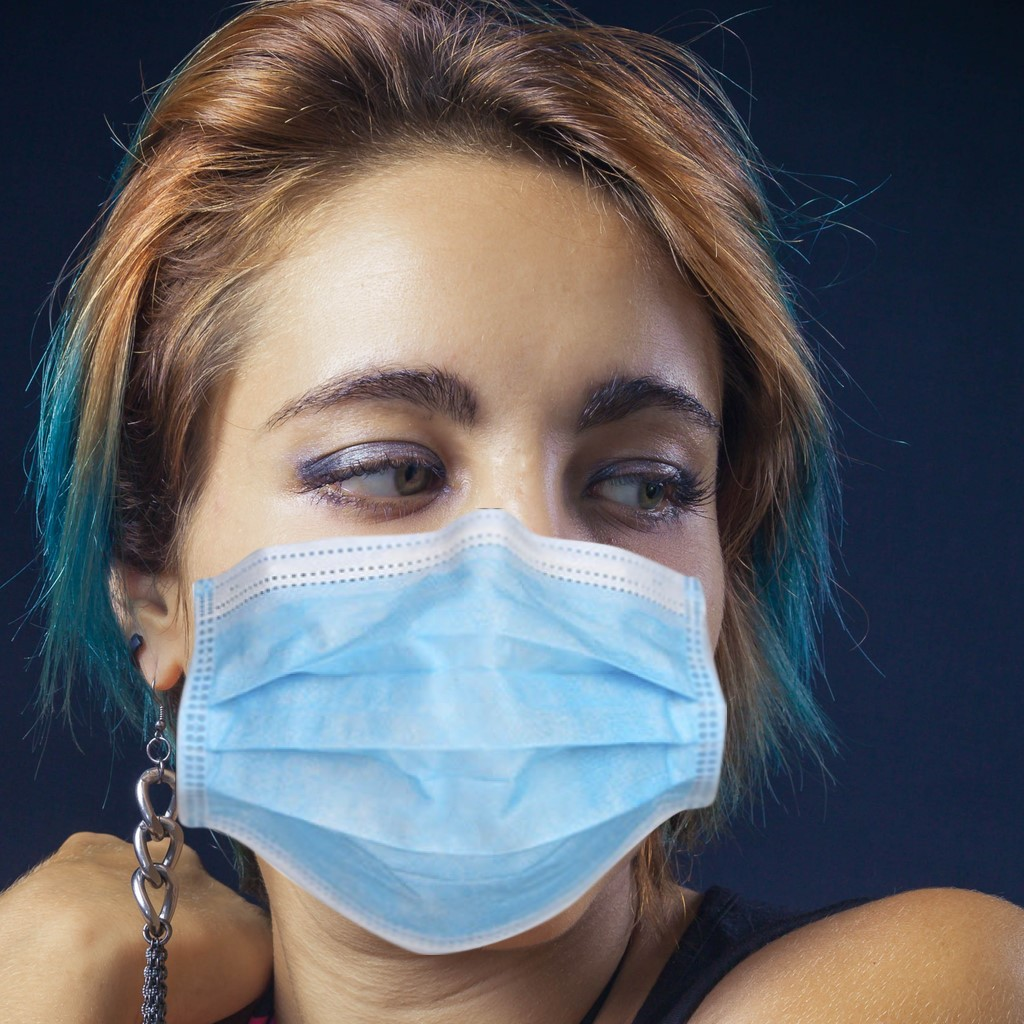con_mascara: (118, 122, 752, 932)
